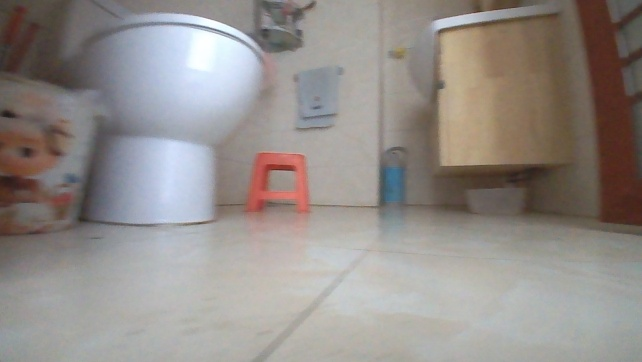toilet: (36, 0, 270, 235)
